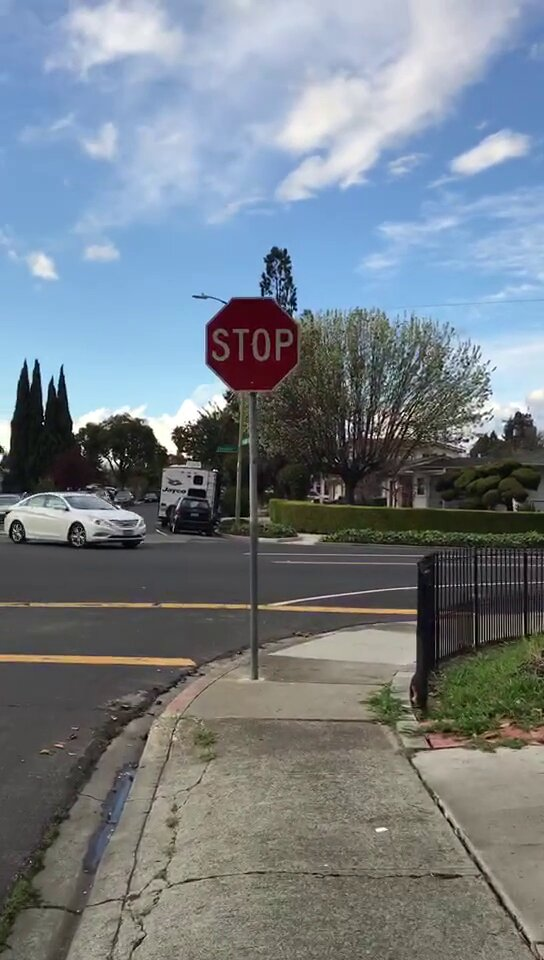stop_sign: (209, 300, 301, 392)
